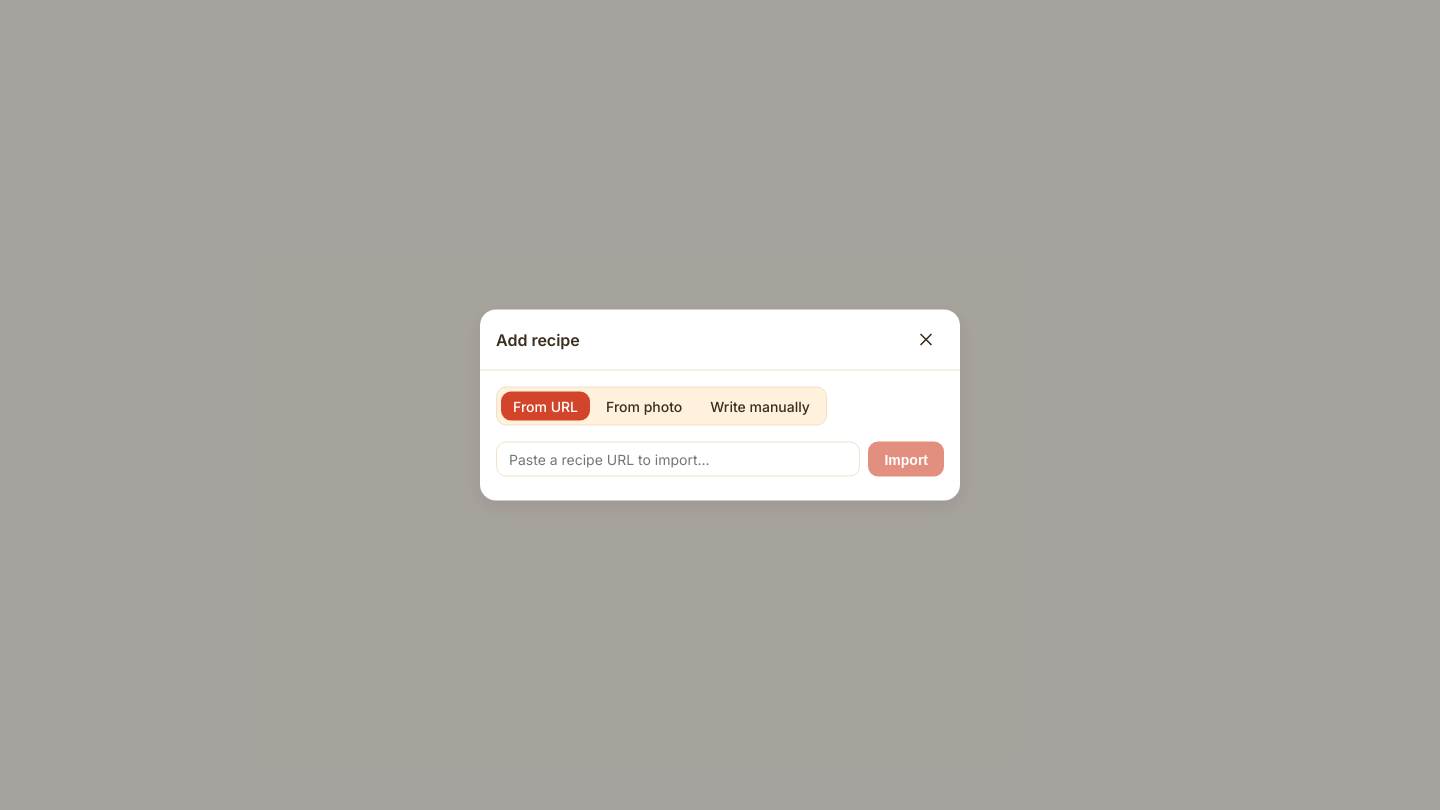
Scenario: AddRecipeSheet › shows error message and re-enables form when url task fails
Type "https://example.com/recipe" into the field with test id "import-url-input" at coordinates (678, 459), box [496,442,860,476]
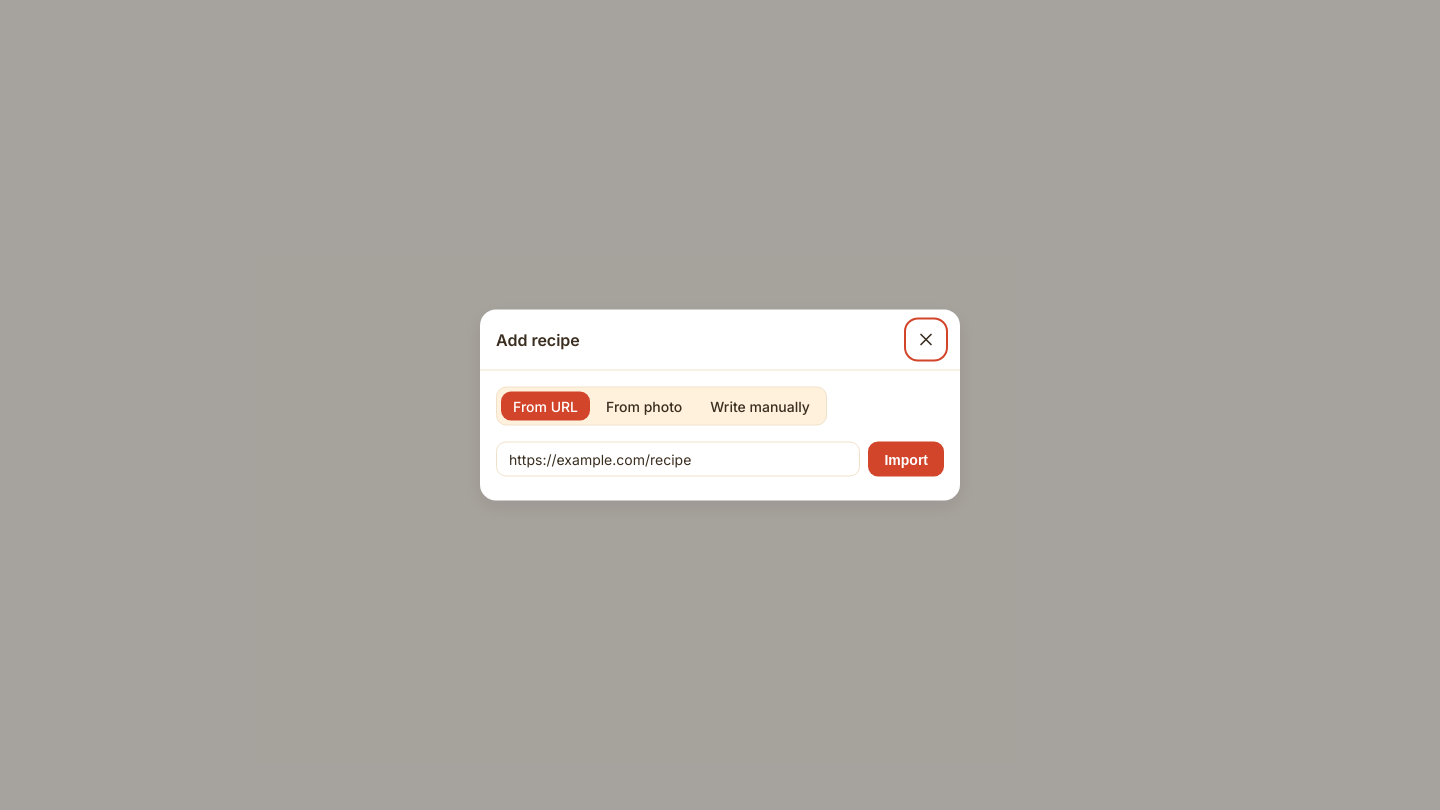
Click the button with test id "import-submit-btn" at coordinates (906, 459), box [868,442,944,476]
Wait 3000 ms
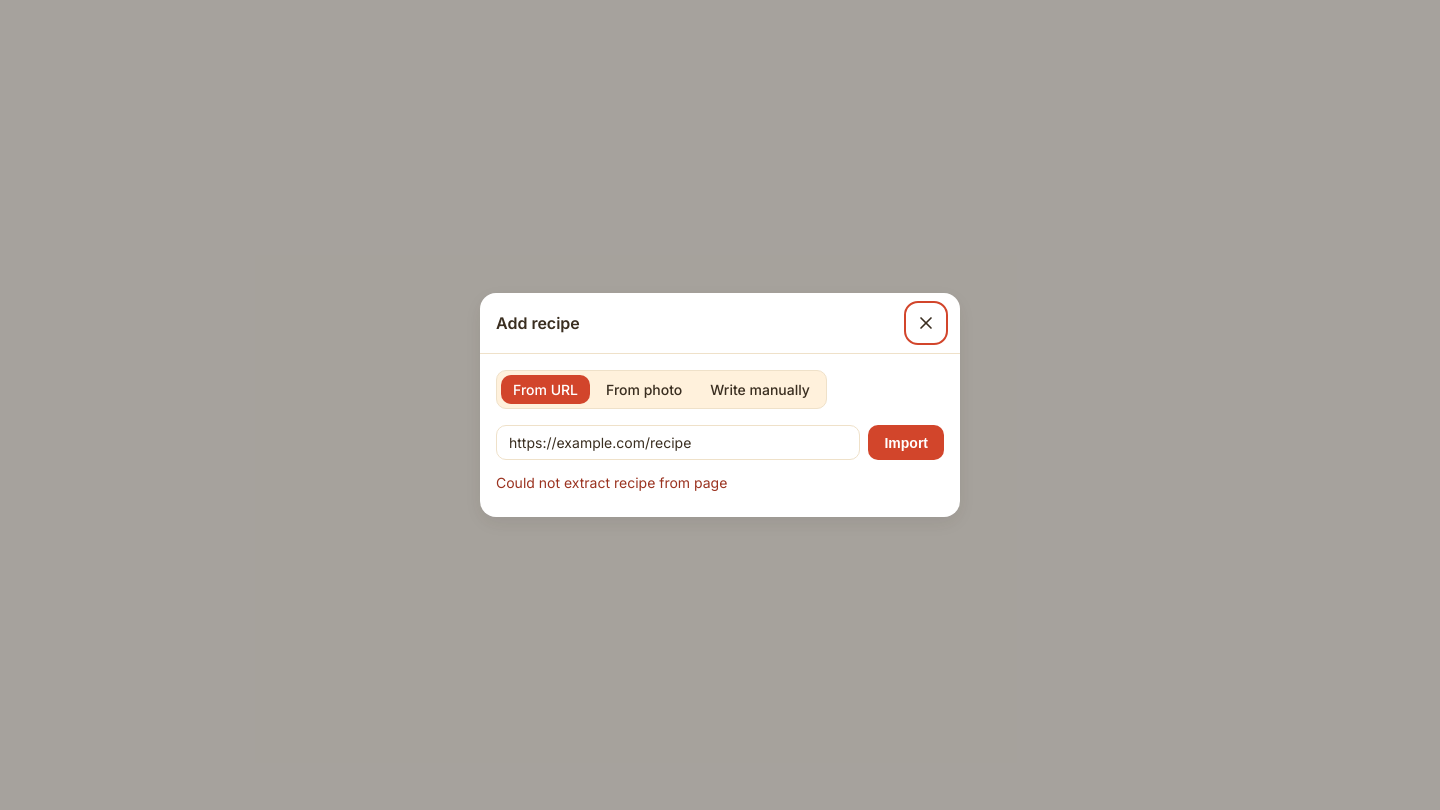
Expected: the field with test id "import-url-input" is enabled, [496,425,860,460]
Expected: the text with test id "import-error" reads "Could not extract recipe from page", [496,474,727,491]
